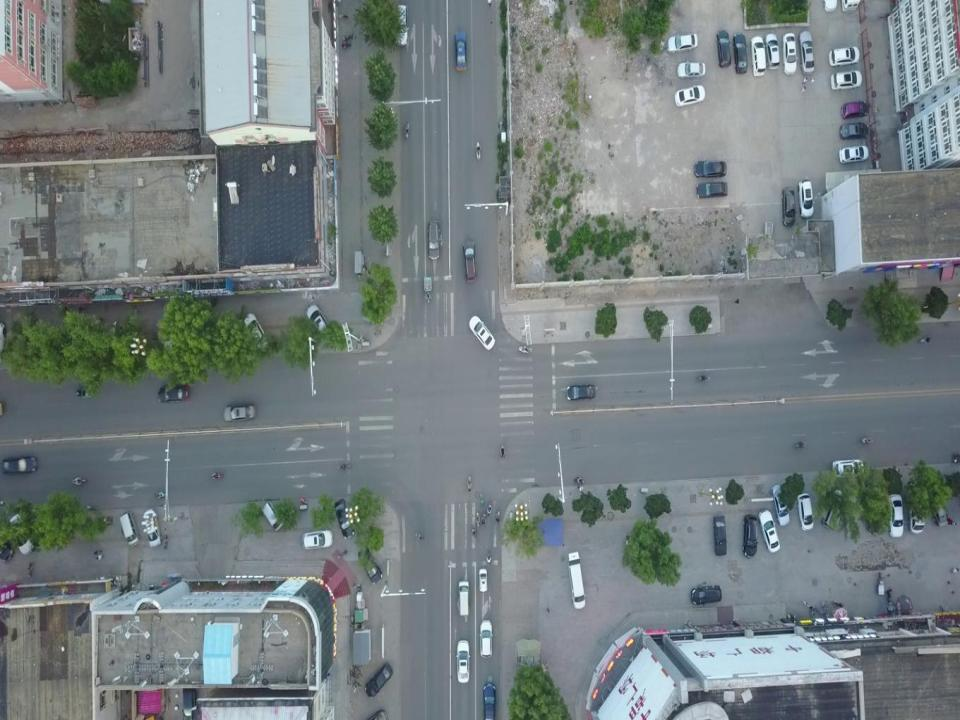car: (305, 302, 333, 344), (243, 312, 269, 354), (757, 509, 781, 554), (357, 544, 383, 585), (364, 662, 393, 698), (9, 514, 34, 555), (468, 314, 496, 350), (334, 499, 354, 540), (770, 484, 789, 527), (908, 488, 925, 536), (741, 514, 759, 559), (887, 494, 905, 538), (798, 29, 815, 75), (830, 68, 863, 91), (144, 507, 162, 548), (674, 85, 706, 108), (828, 44, 860, 67), (796, 492, 814, 532), (930, 489, 948, 529), (749, 35, 766, 77), (667, 32, 698, 55), (782, 31, 798, 75), (732, 32, 748, 75), (2, 455, 38, 474), (693, 159, 727, 179), (797, 179, 814, 219), (690, 585, 722, 606), (832, 458, 864, 479), (158, 382, 188, 404), (426, 219, 442, 260), (712, 515, 728, 556), (781, 186, 797, 227), (302, 529, 333, 550), (764, 33, 781, 71), (394, 3, 409, 46), (715, 29, 731, 69), (462, 238, 476, 282), (456, 639, 470, 683), (839, 144, 869, 164), (223, 404, 256, 422), (677, 60, 706, 80), (696, 180, 728, 198), (839, 121, 869, 140), (482, 681, 496, 720), (479, 619, 493, 658), (840, 99, 867, 119), (454, 29, 466, 73), (567, 383, 596, 401), (479, 567, 487, 593), (822, 0, 838, 12)
van: (568, 550, 586, 610), (821, 488, 843, 531), (119, 509, 140, 549), (261, 502, 283, 532), (458, 579, 470, 615), (841, 0, 860, 12)
